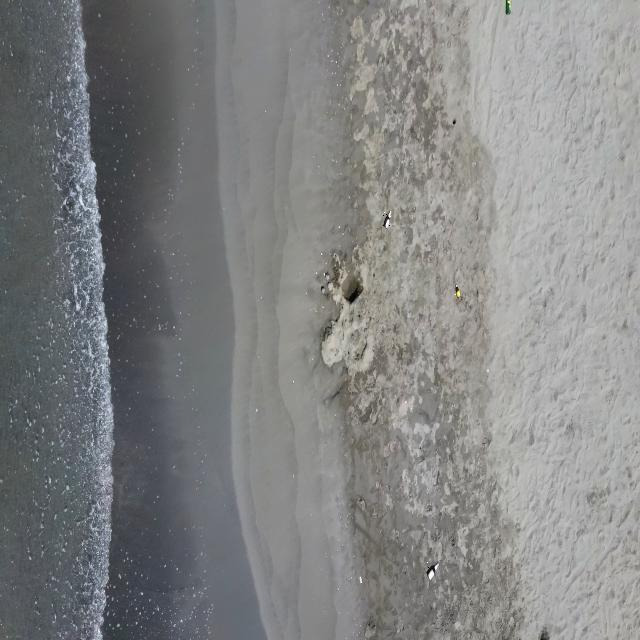glass: (427, 562, 439, 581), (383, 210, 392, 230), (504, 0, 512, 16), (455, 283, 461, 299)
